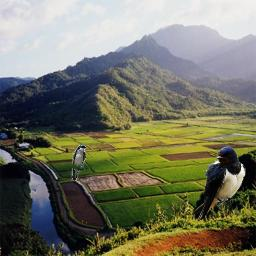Swallow: (191, 146, 246, 223), (71, 145, 86, 181)
